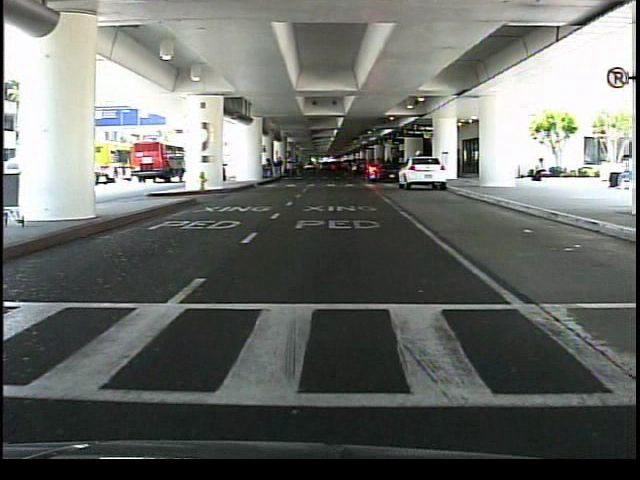person: (525, 152, 552, 189)
